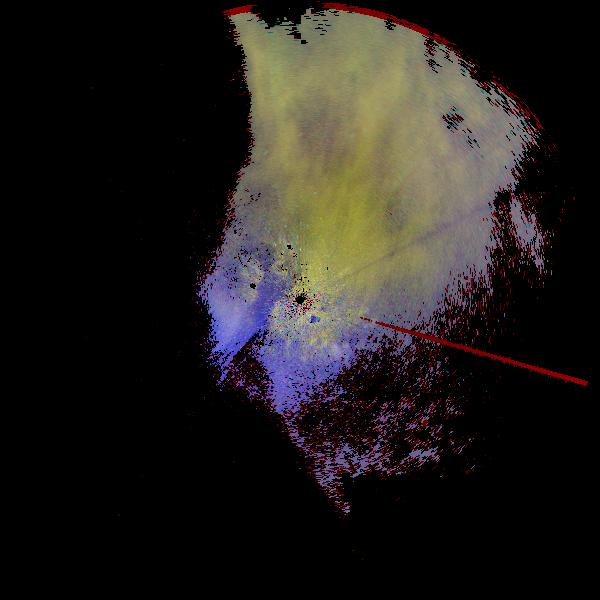roost: (304, 319, 352, 367)
